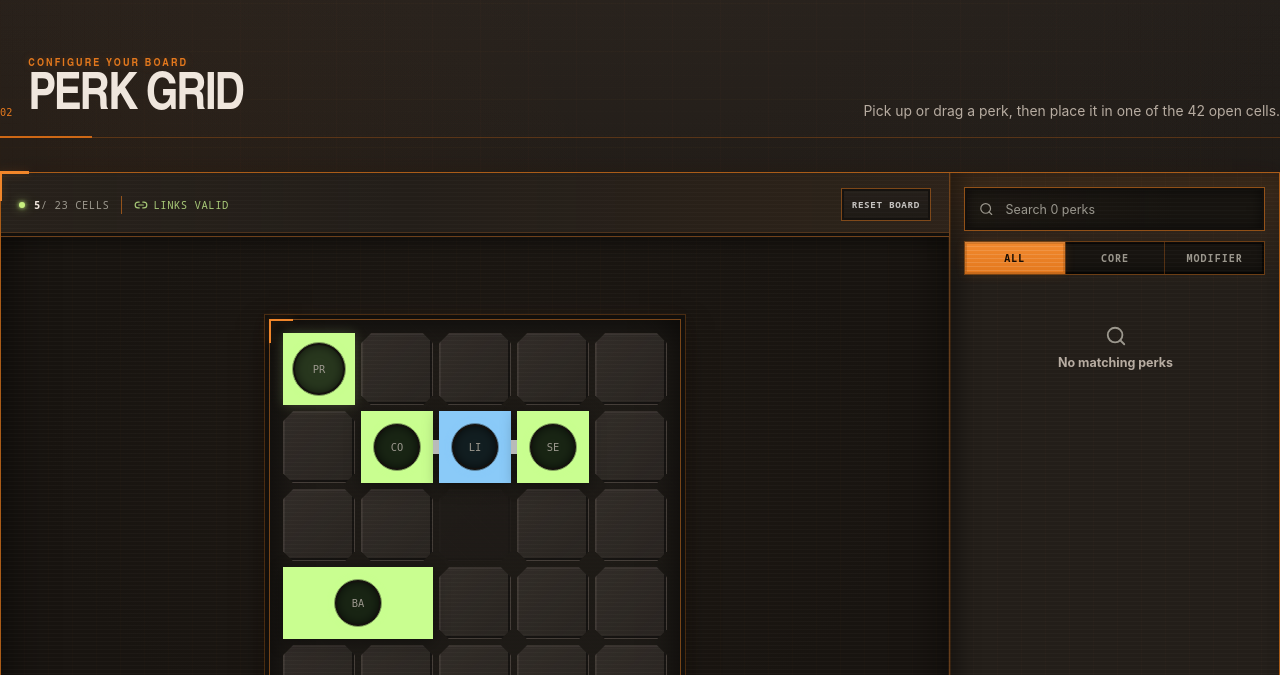
Scenario: PerkWorkbench grid presentation › highlights a compatibility root and every valid attached descendant
Hover over the button with aria-label "Core Perk, 1×1, at B2" at (397, 447), box [361, 411, 433, 483]
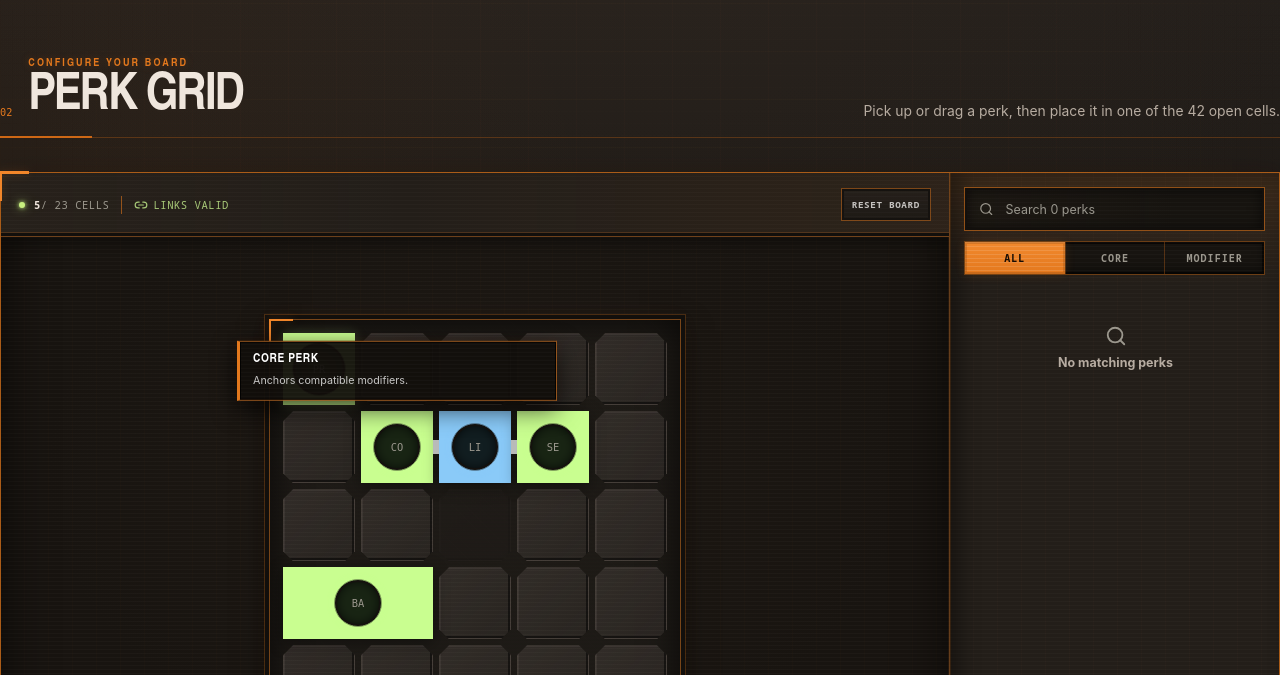
Press r
(page scrolled)
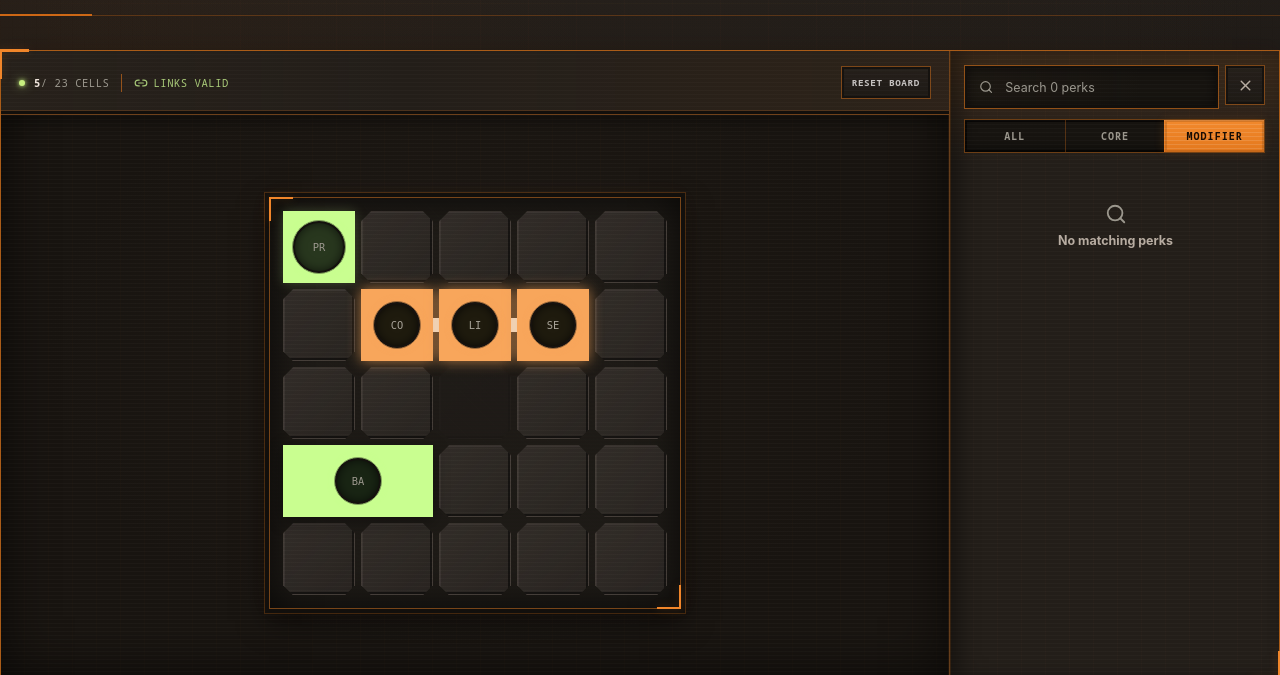
Check: the button named "Show all perks" is shown, box [1225, 65, 1265, 105]
